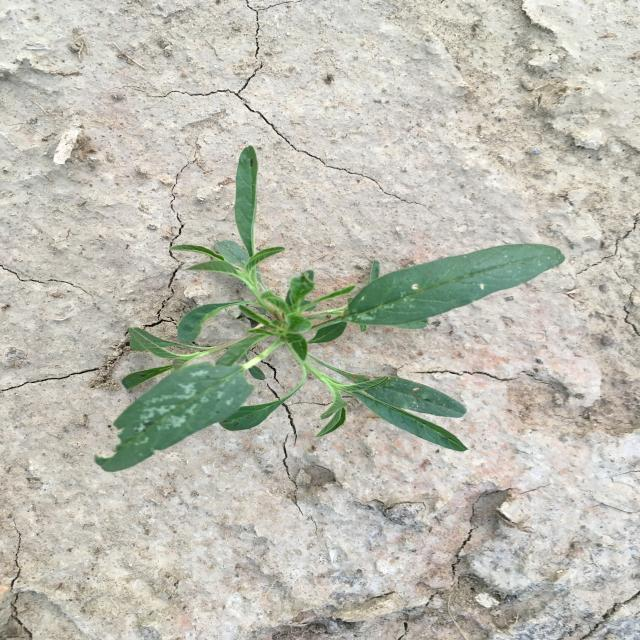Waterhemp: (95, 145, 566, 472)
